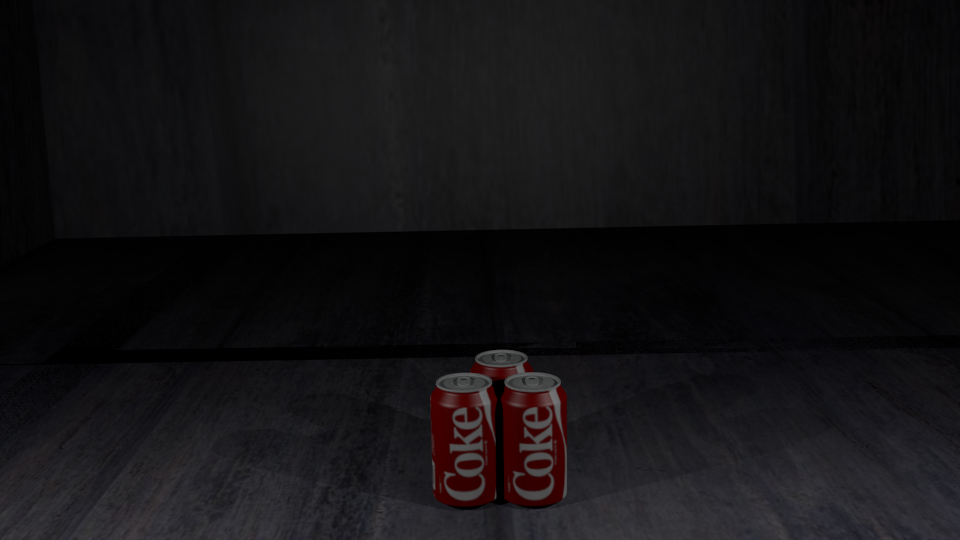cola_can: (430, 373, 498, 503), (499, 373, 566, 501), (470, 350, 532, 472)
